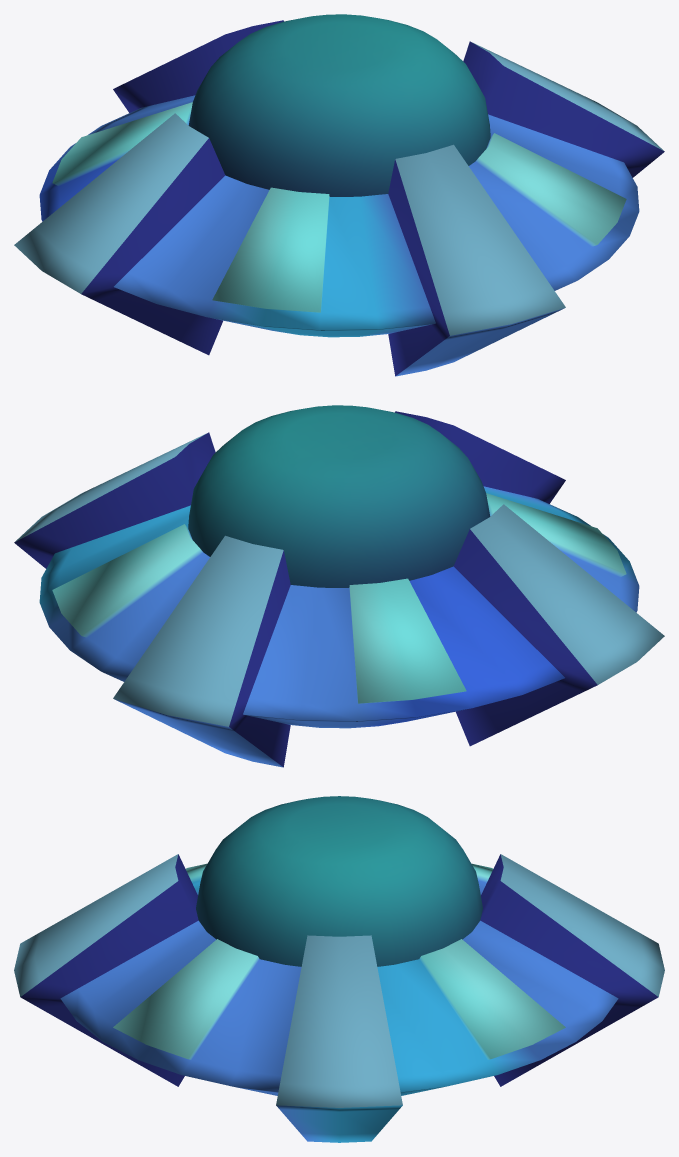
File: тарелка 2.fbx
The picture shows the model from 3 angles, top to bottom: view 1: azimuth 30°, elevation 25°; view 2: azimuth 150°, elevation 25°; view 3: azimuth 270°, elevation 25°; orthographic projection. The views are drawn at different scales.
Parts seen in each view (by area): view 1: Cylinder, Cylinder.001; view 2: Cylinder, Cylinder.001; view 3: Cylinder, Cylinder.001.
Boxes of the visible parts, box(x1,y1,x2,y2) form: Cylinder: box(14, 20, 664, 376); Cylinder.001: box(188, 14, 490, 196); Cylinder: box(14, 411, 664, 767); Cylinder.001: box(188, 405, 490, 587); Cylinder: box(14, 854, 664, 1142); Cylinder.001: box(196, 796, 482, 966).
Bounding box in the file's own units: 453 × 190 × 453.
